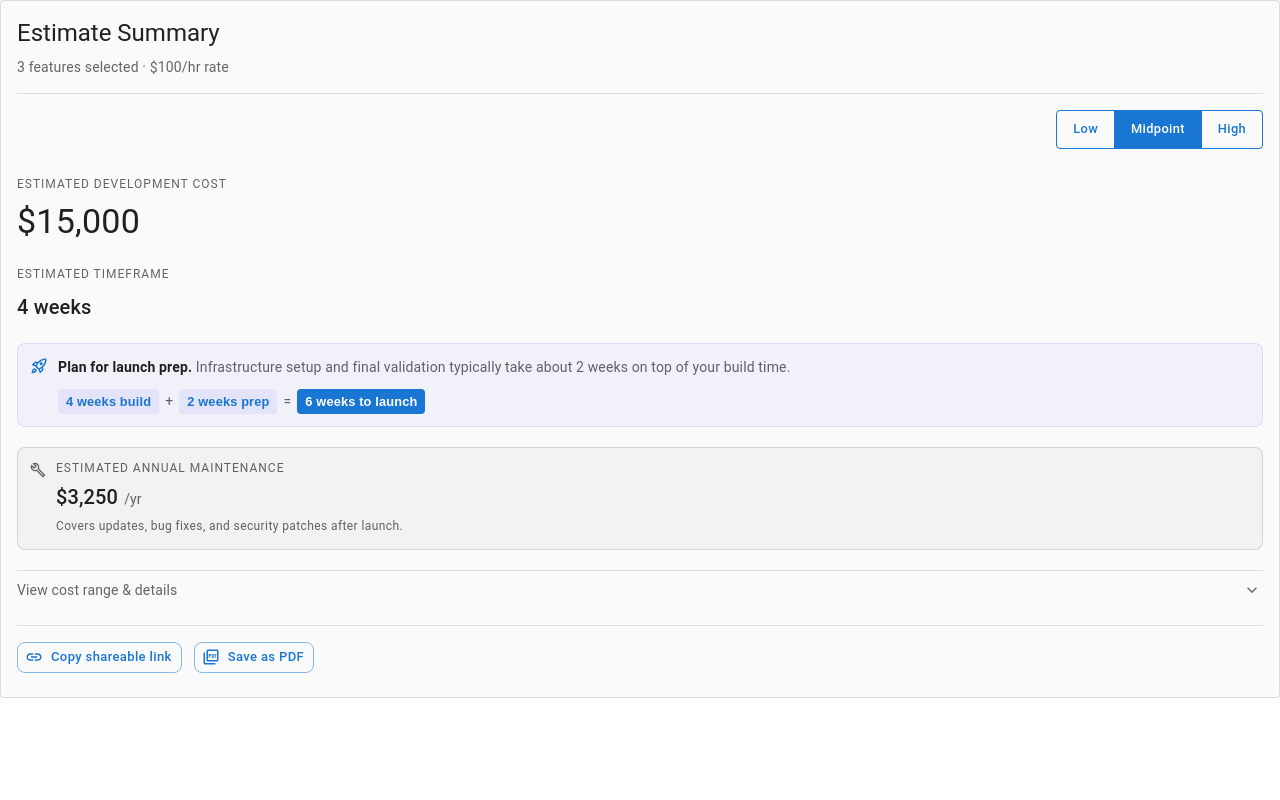
EstimateResults › loaded state with estimate › clicking Low changes displayed cost to minCost
Click the button "Low". click: (1086, 130)
box: [1056,110,1115,149]
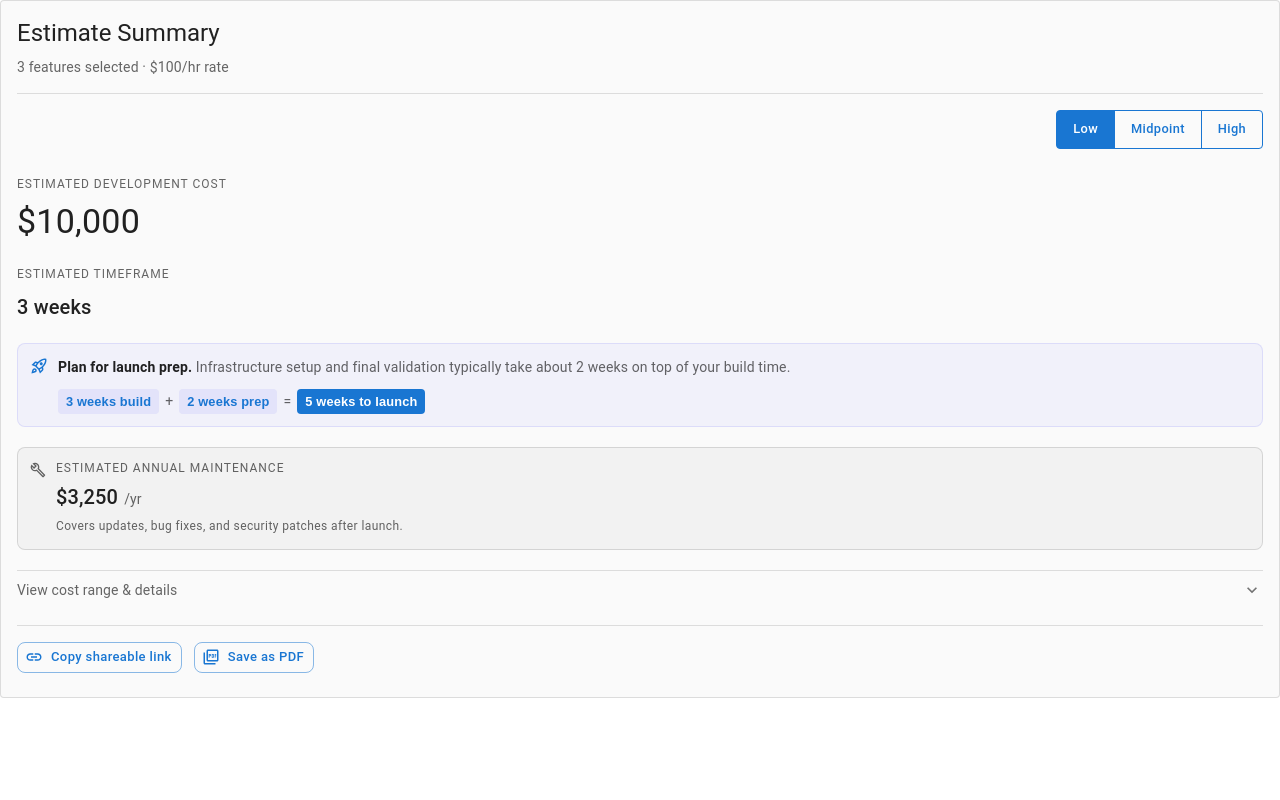
Result: the heading "$10,000" is shown at [17,201,140,241]
